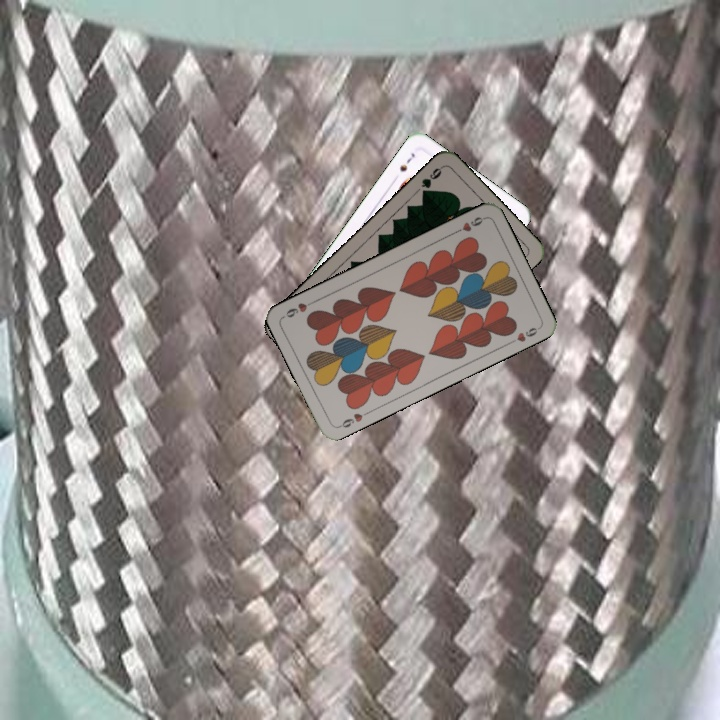G9: (417, 162, 445, 199)
H9: (449, 212, 488, 237), (334, 407, 372, 430)
S7: (395, 149, 418, 174)
